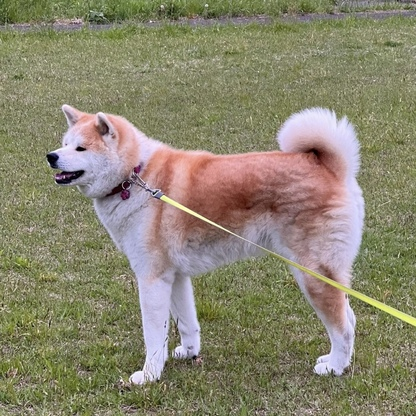akita: (43, 100, 369, 387)
